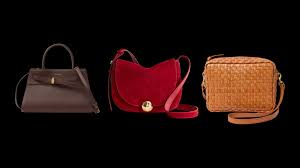bag: (199, 49, 287, 126)
